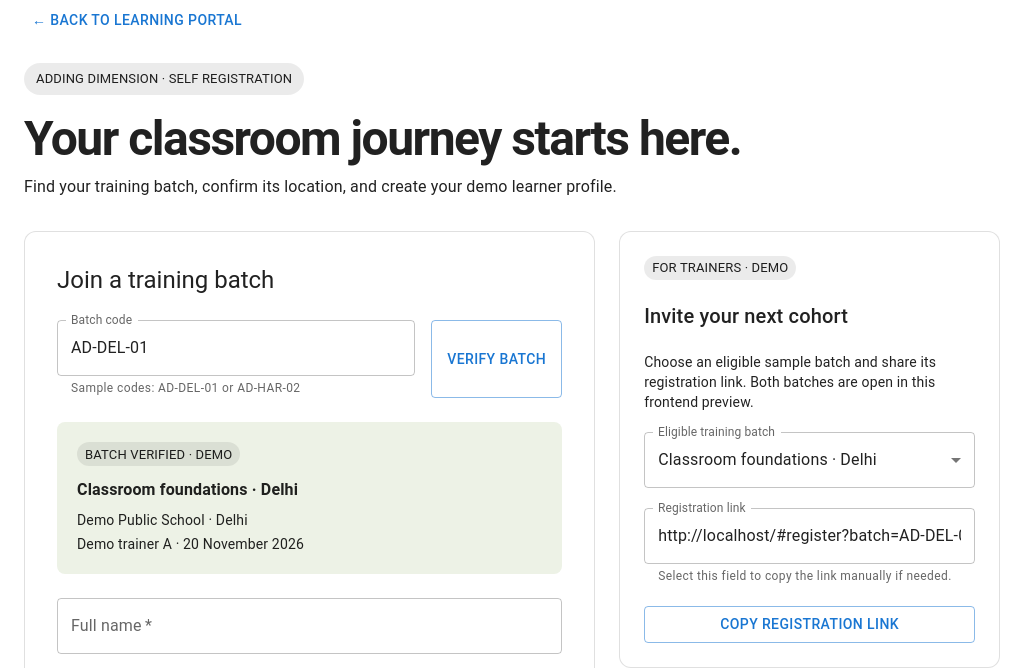
batch registration preview › rejects unknown batch codes and clears an earlier verified location
Replace the text in the field labelled "Batch code" with "UNKNOWN" at x=236, y=348, box [57,320,415,376]
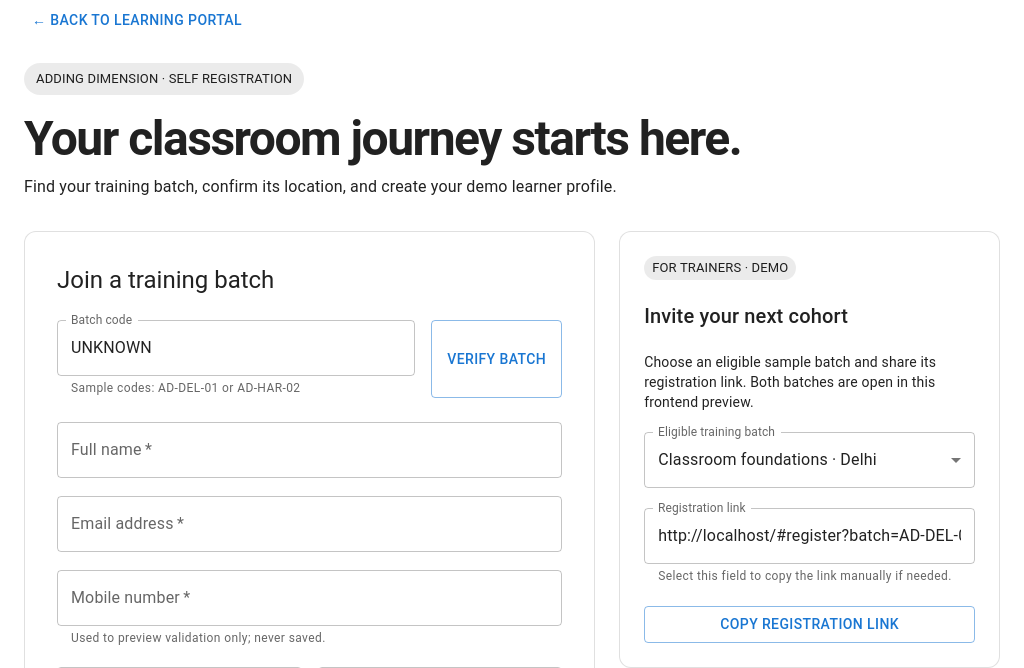
Click the button "Verify batch" at x=497, y=359, box [431,320,562,398]
(page scrolled)
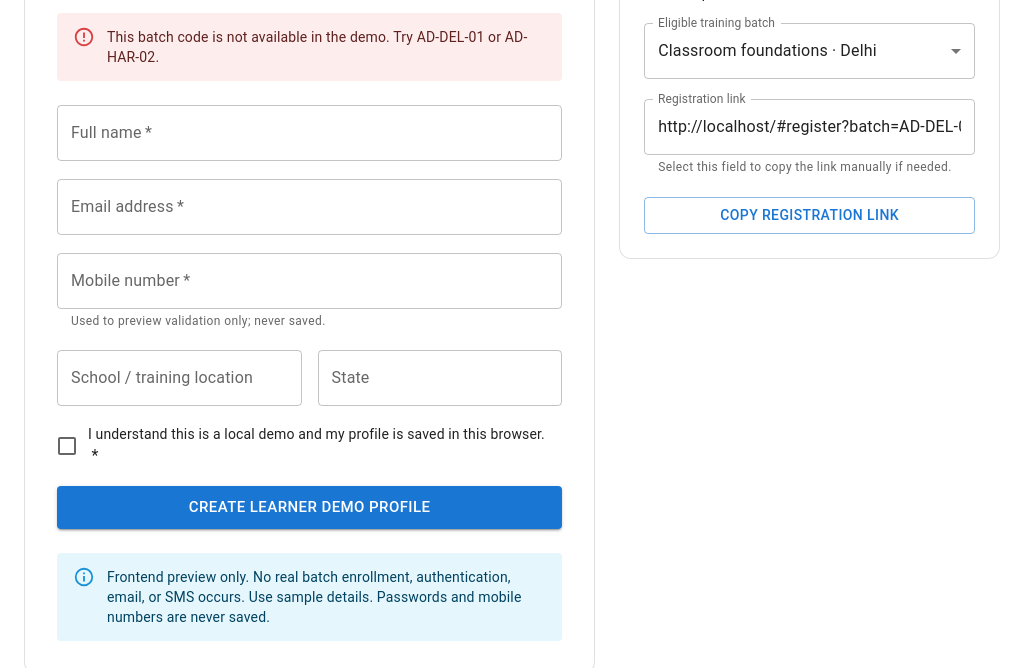
Check: the field labelled "State" is empty, box [318,350,562,406]
Check: the text "This batch code is not available" is shown, box [107,29,527,65]
